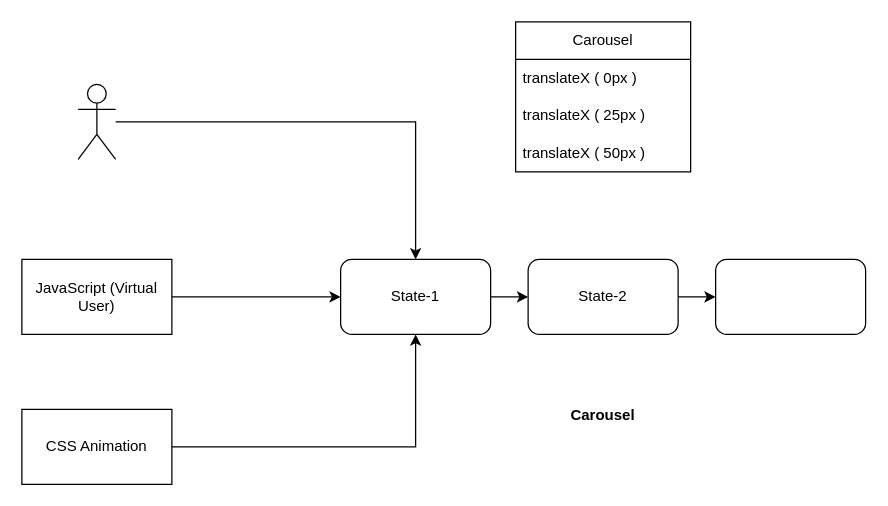
This 888x506 diagram has some shape labels left out. The box of each missing label's shape, as (x1, y1, x2, y2) in pixels:
State-3: (714, 258, 866, 334)
User: (77, 83, 116, 159)
